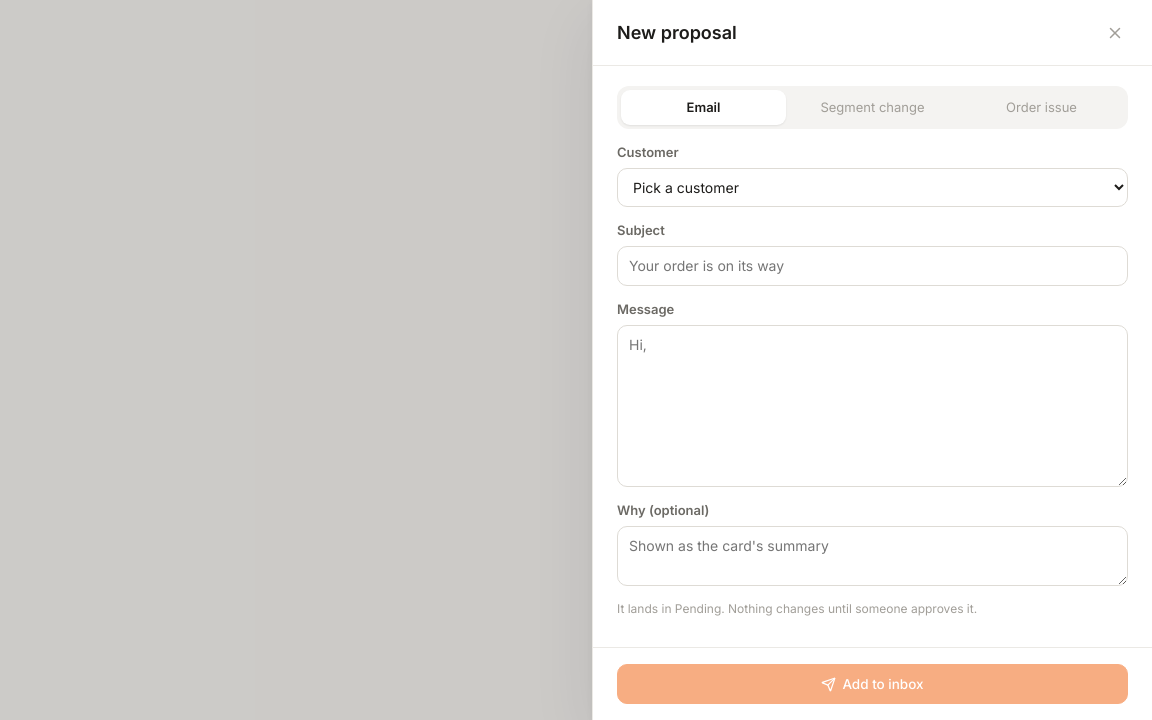
it: NewProposal › keeps Add disabled until the email has a customer, subject and body
Expected: the button "Add to inbox" is disabled, [617, 664, 1128, 704]
Select "Bob Smith · New · ₹999" in the dropdown labelled "Customer" at (872, 187), box [617, 168, 1128, 207]
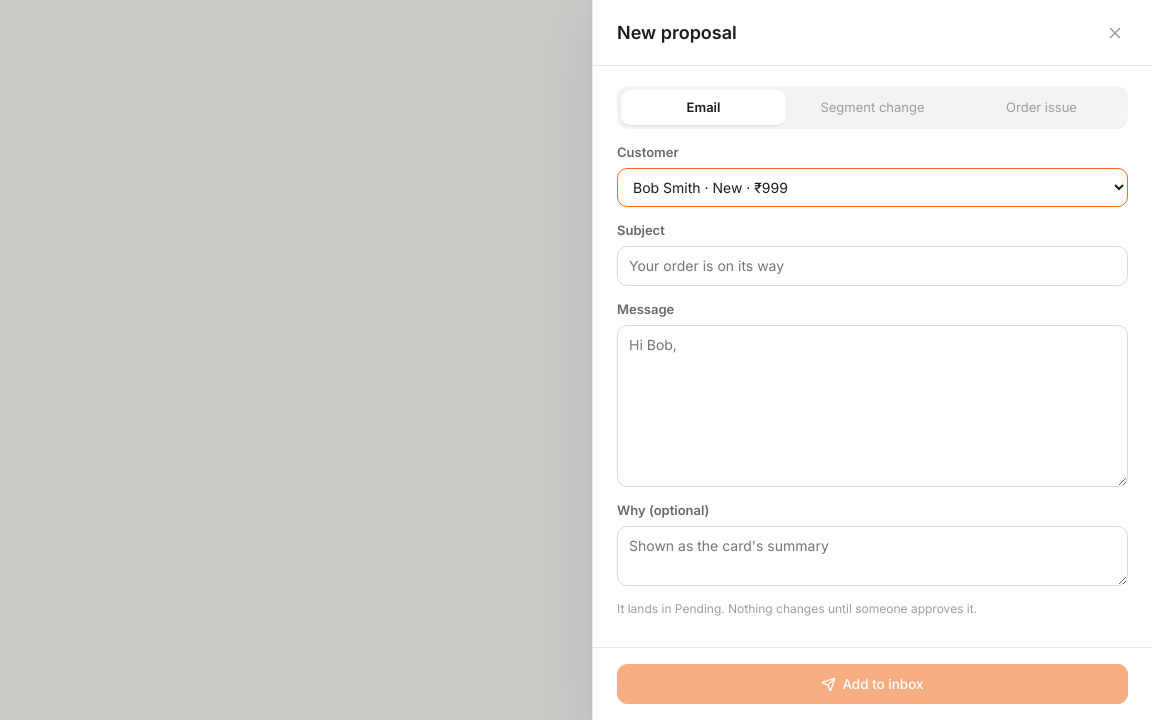
Type "Thanks!" into the field labelled "Subject" at (872, 266), box [617, 246, 1128, 286]
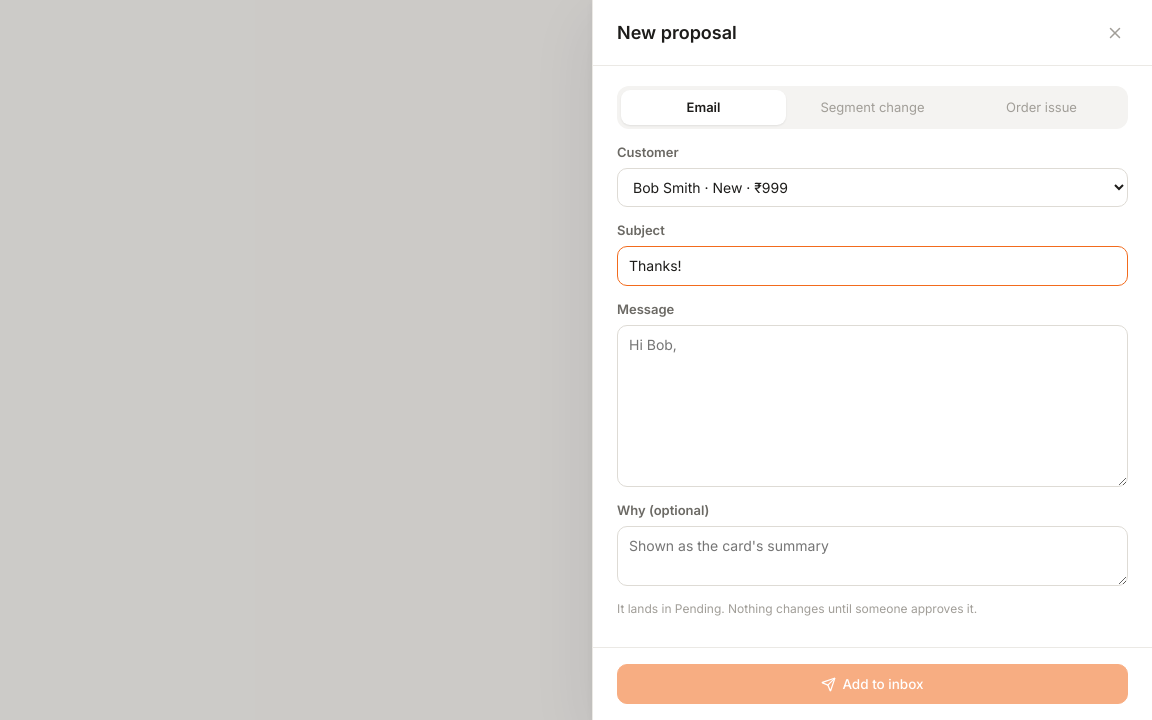
Expected: the button "Add to inbox" is disabled, [617, 664, 1128, 704]
Type "Hi Bob" into the text box labelled "Message" at (872, 406), box [617, 325, 1128, 487]
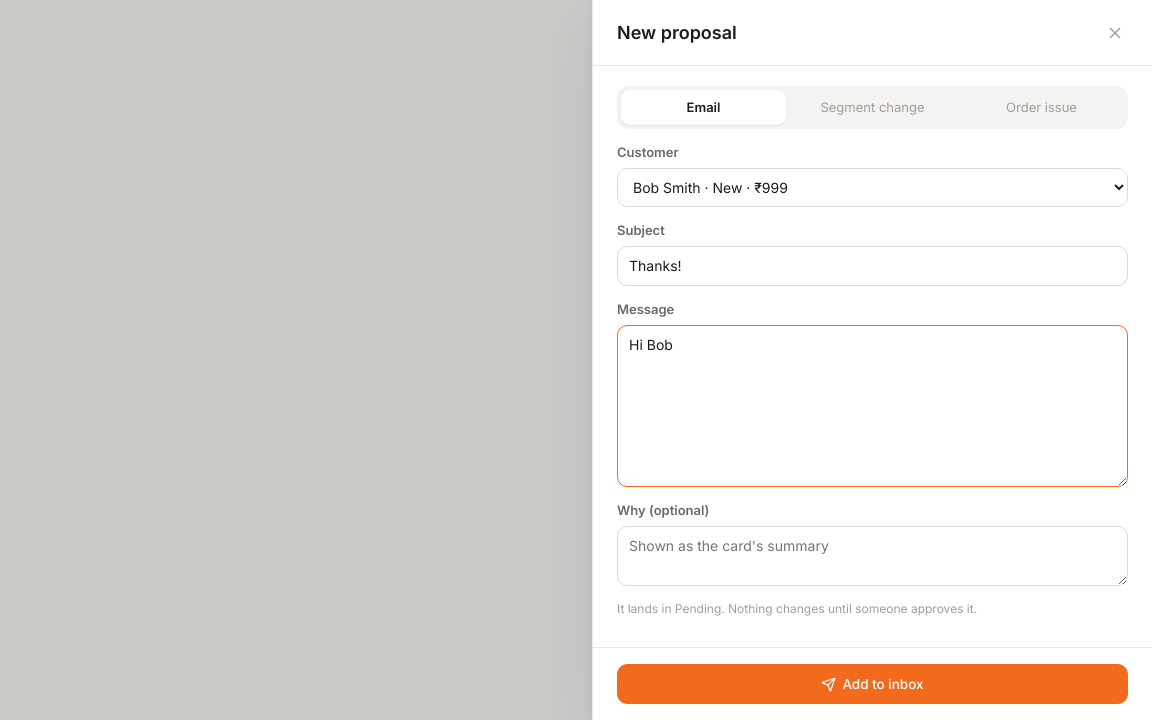
Now the button "Add to inbox" is enabled, box [617, 664, 1128, 704]
